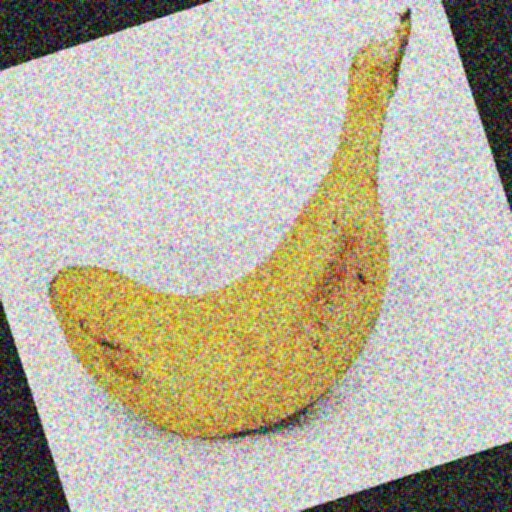fruit: (366, 0, 456, 96)
